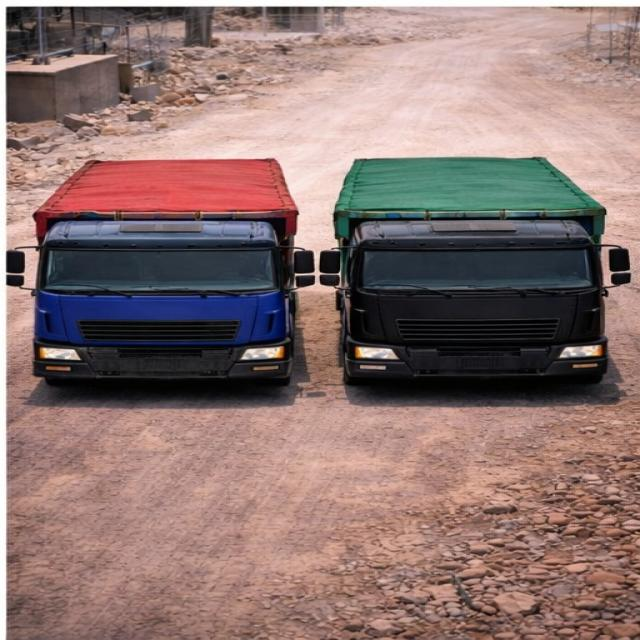Box: (337, 157, 601, 215), (44, 157, 292, 212)
Truck: (7, 148, 312, 397), (321, 149, 639, 380)
